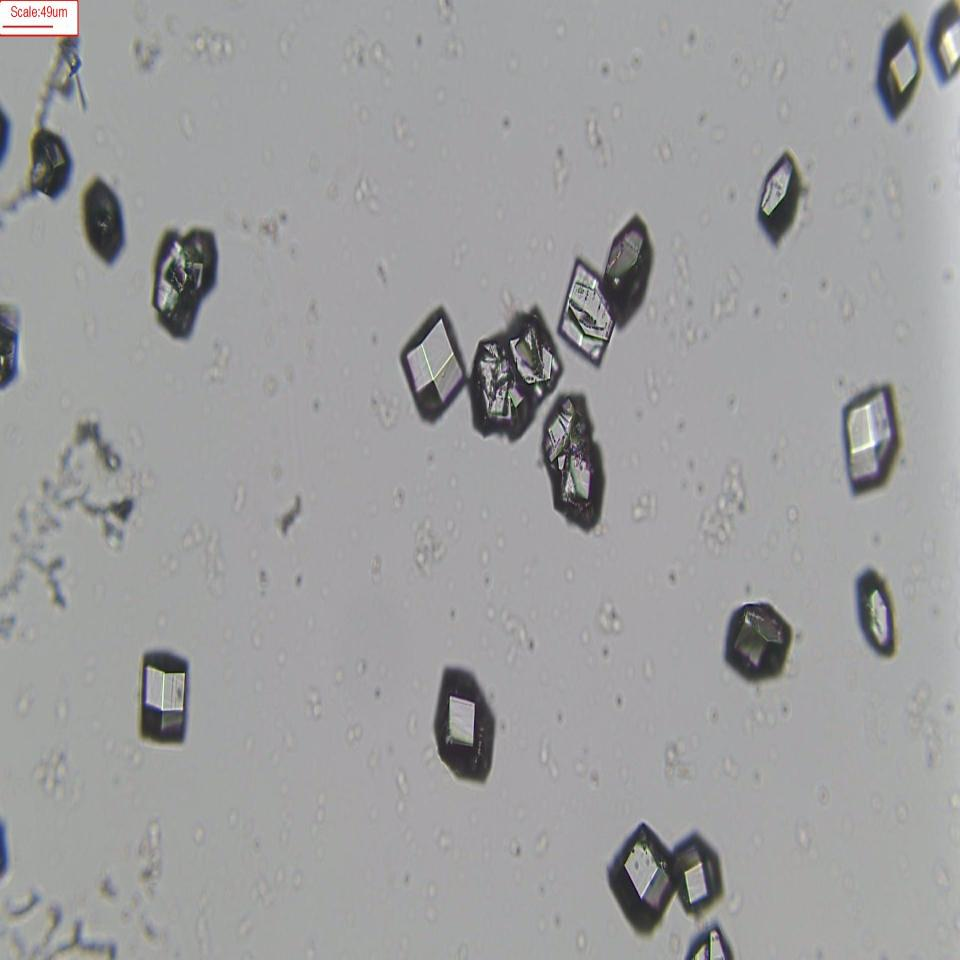crystal: (465, 307, 565, 434), (542, 402, 606, 527), (401, 304, 467, 419), (836, 382, 899, 492), (432, 672, 493, 781), (605, 821, 670, 921), (137, 652, 198, 758), (604, 212, 655, 326), (157, 238, 217, 330), (721, 606, 787, 689), (558, 261, 614, 358), (752, 149, 802, 248), (876, 16, 923, 115), (672, 834, 723, 908), (80, 176, 123, 262), (855, 567, 895, 652), (27, 133, 72, 208), (930, 5, 960, 89)
